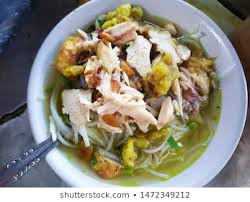soto: (25, 1, 244, 191)
